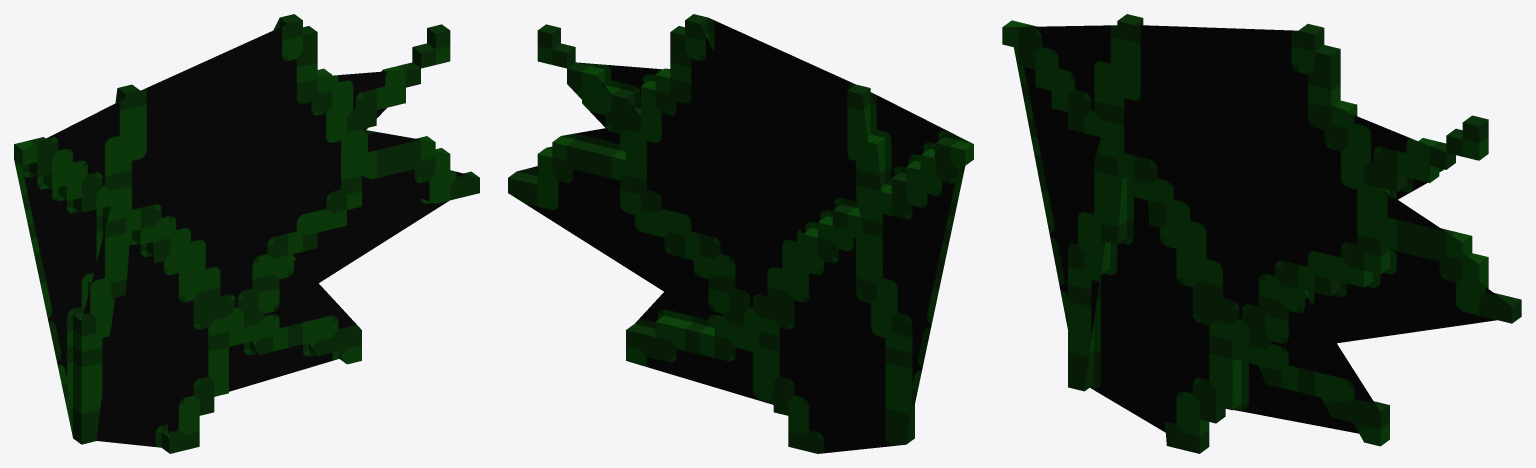
The model's file is Pods_3.obj.
3 views of the same model, side by side, from view 1: azimuth 30°, elevation 25°; view 2: azimuth 150°, elevation 25°; view 3: azimuth 330°, elevation 25° (orthographic). The views are drawn at different scales.
Parts seen in each view (by area): view 1: Pods_3_Pods_3.001; view 2: Pods_3_Pods_3.001; view 3: Pods_3_Pods_3.001.
Part boxes in pixels (x1,y1,x2,y2): Pods_3_Pods_3.001: (14,14,479,453); Pods_3_Pods_3.001: (508,14,973,453); Pods_3_Pods_3.001: (1002,14,1521,453).
Bounding box in the file's own units: 3.1 × 2.6 × 0.1.
Materials: 1 (1 with a texture image).
